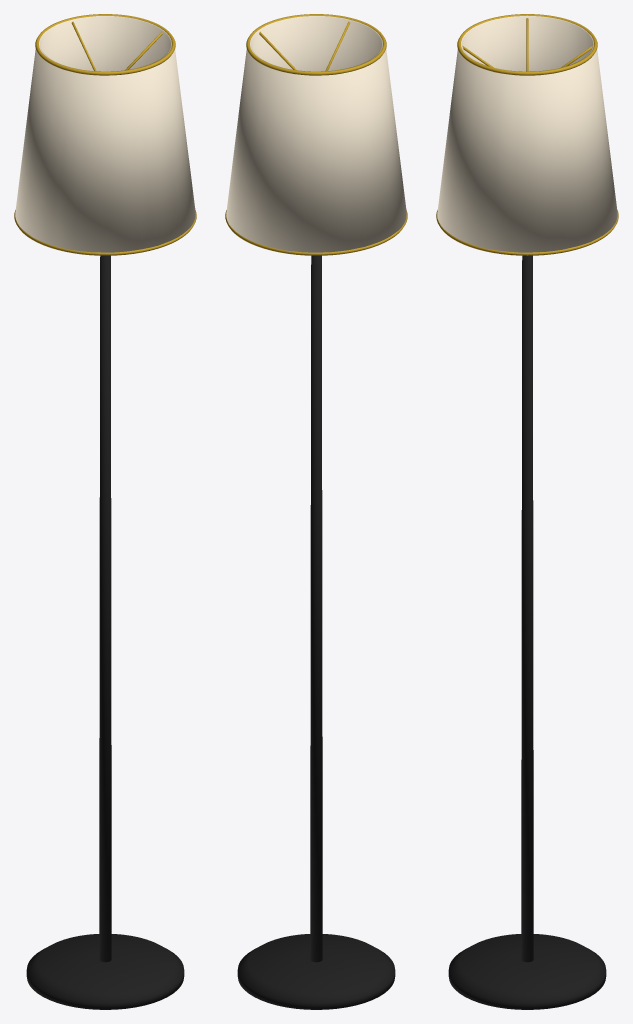
File: living-floorlamp.glb
3 views of the same model, side by side, from view 1: azimuth 30°, elevation 25°; view 2: azimuth 150°, elevation 25°; view 3: azimuth 270°, elevation 25° (orthographic).
Visible parts, largest first — view 1: FloorLamp__Shade, FloorLamp__Base, FloorLamp__Pole, FloorLamp__ShadeWire; view 2: FloorLamp__Shade, FloorLamp__Base, FloorLamp__Pole, FloorLamp__ShadeWire; view 3: FloorLamp__Shade, FloorLamp__Base, FloorLamp__Pole, FloorLamp__ShadeWire.
Part boxes in pixels (left/top/right/bottom): FloorLamp__Shade: left=15, top=16, right=195, bottom=252; FloorLamp__Base: left=26, top=934, right=184, bottom=1009; FloorLamp__Pole: left=99, top=255, right=111, bottom=962; FloorLamp__ShadeWire: left=14, top=14, right=196, bottom=255; FloorLamp__Shade: left=226, top=16, right=406, bottom=252; FloorLamp__Base: left=237, top=934, right=395, bottom=1009; FloorLamp__Pole: left=310, top=255, right=322, bottom=962; FloorLamp__ShadeWire: left=225, top=14, right=407, bottom=255; FloorLamp__Shade: left=437, top=15, right=617, bottom=252; FloorLamp__Base: left=448, top=934, right=606, bottom=1009; FloorLamp__Pole: left=521, top=255, right=533, bottom=962; FloorLamp__ShadeWire: left=436, top=14, right=618, bottom=255.
Size of the model in its own units: 34.8 by 196 by 34.8.
